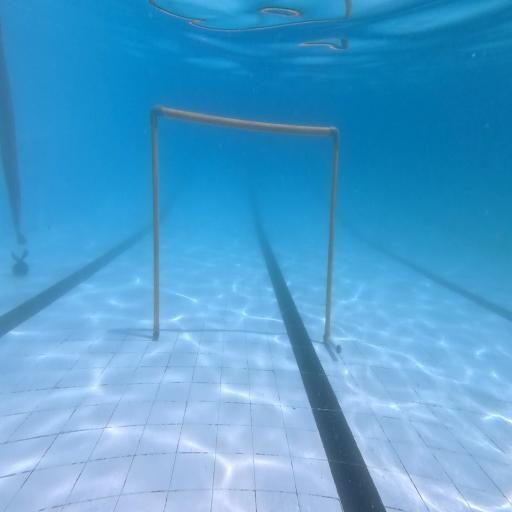gate: (150, 106, 342, 355)
